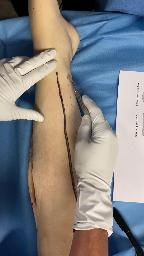scalpel: (68, 72, 91, 120)
